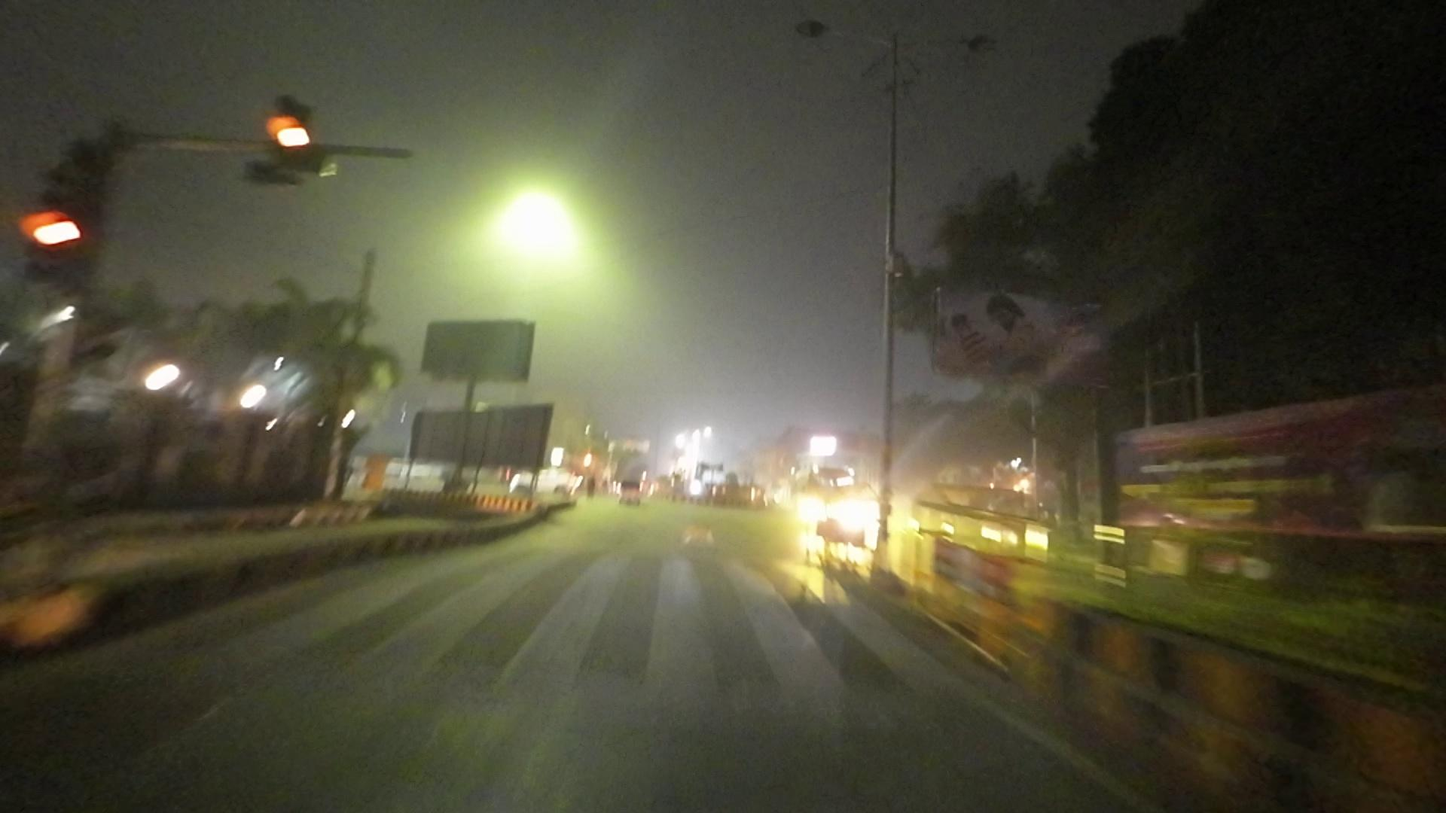streetlight: (790, 16, 889, 50), (904, 32, 1001, 57)
